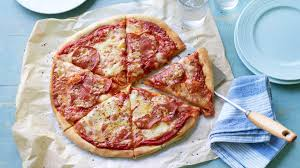pizza: (51, 21, 209, 153)
